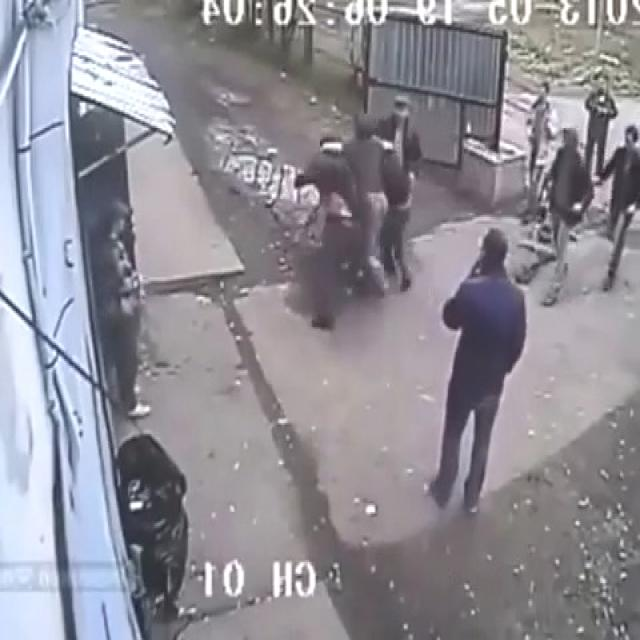fight: (309, 115, 381, 351), (348, 114, 416, 311)
